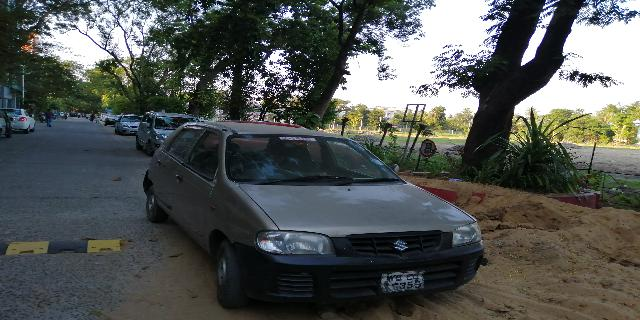Car: (138, 113, 487, 314), (3, 106, 36, 137), (111, 113, 144, 138)
